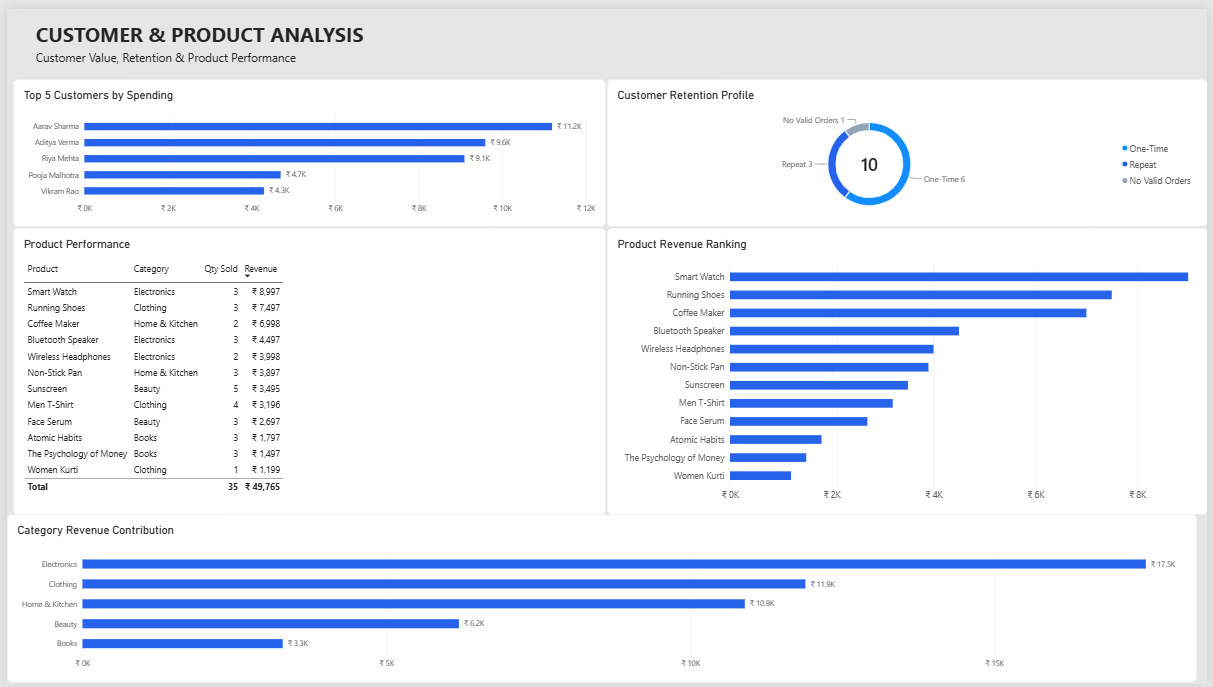

This screenshot's page, from the dashboard's own definition file:
{"tool":"powerbi","page":{"name":"Customer & Product Analysis","canvas":[1920,1080],"ordinal":1},"visuals":[{"type":"textbox","box":[45.2,18.1,589.9,45.2],"z":0},{"type":"textbox","box":[45.2,63.3,519.4,48.9],"z":1},{"type":"clusteredBarChart","title":"Top 5 Customers by Spending","fields":{"Category":["Customers.customer_name"],"Y":["Categories.Total Revenue"]},"box":[10.9,112.2,948.3,237.1],"z":2},{"type":"donutChart","title":"Customer Retention Profile","fields":{"Category":["Customers.Customer Type"],"Y":["Count(Customers.customer_id)"]},"box":[959.1,112.2,960.9,237.1],"z":3},{"type":"tableEx","title":"Product Performance","fields":{"Values":["Products.product_name","Categories.category_name","Order Items.Total Quantity Sold","Categories.Total Revenue"]},"box":[10.9,349.3,948.3,459.7],"z":4},{"type":"clusteredBarChart","title":"Product Revenue Ranking","fields":{"Category":["Products.product_name"],"Y":["Categories.Total Revenue"]},"box":[959.2,349.9,961.3,459.6],"z":5},{"type":"clusteredBarChart","title":"Category Revenue Contribution","fields":{"Category":["Categories.category_name"],"Y":["Categories.Total Revenue"]},"box":[0,808.9,1903.8,269.6],"z":6}]}

Visuals, with their boxes in screenshot pixels (x1, y1, x2, y2), scaled from the page's 1920x1080 canvas onto the 1213x687 screenshot:
textbox: (x1=29, y1=12, x2=401, y2=40)
textbox: (x1=29, y1=40, x2=357, y2=71)
"Top 5 Customers by Spending" clusteredBarChart: (x1=7, y1=71, x2=606, y2=222)
"Customer Retention Profile" donutChart: (x1=606, y1=71, x2=1212, y2=222)
"Product Performance" tableEx: (x1=7, y1=222, x2=606, y2=515)
"Product Revenue Ranking" clusteredBarChart: (x1=606, y1=223, x2=1212, y2=515)
"Category Revenue Contribution" clusteredBarChart: (x1=0, y1=515, x2=1203, y2=686)
